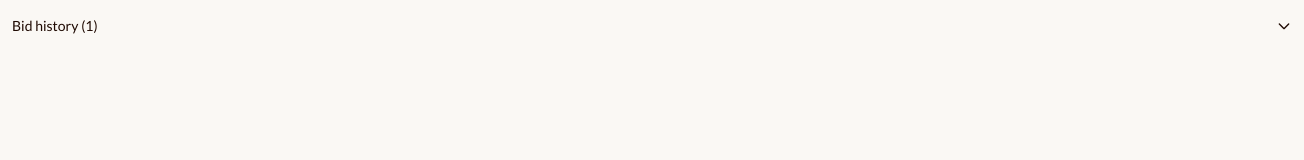
Test case: BidHistory › expanded state › shows "(Ty)" label for user bids
The width and height of the screenshot is (1304, 160).
Click the button "Bid history (1)" at (45, 26), box [12, 16, 1292, 36]
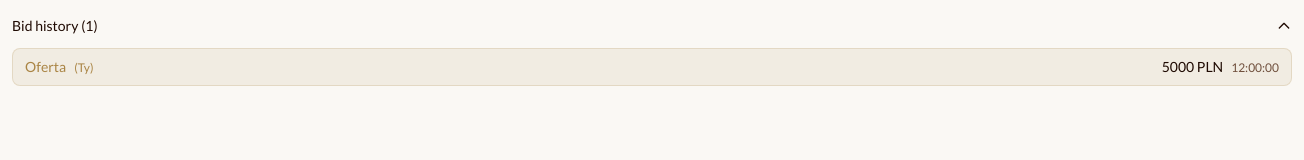
Now the text "(Ty)" is shown, box [74, 60, 94, 75]
